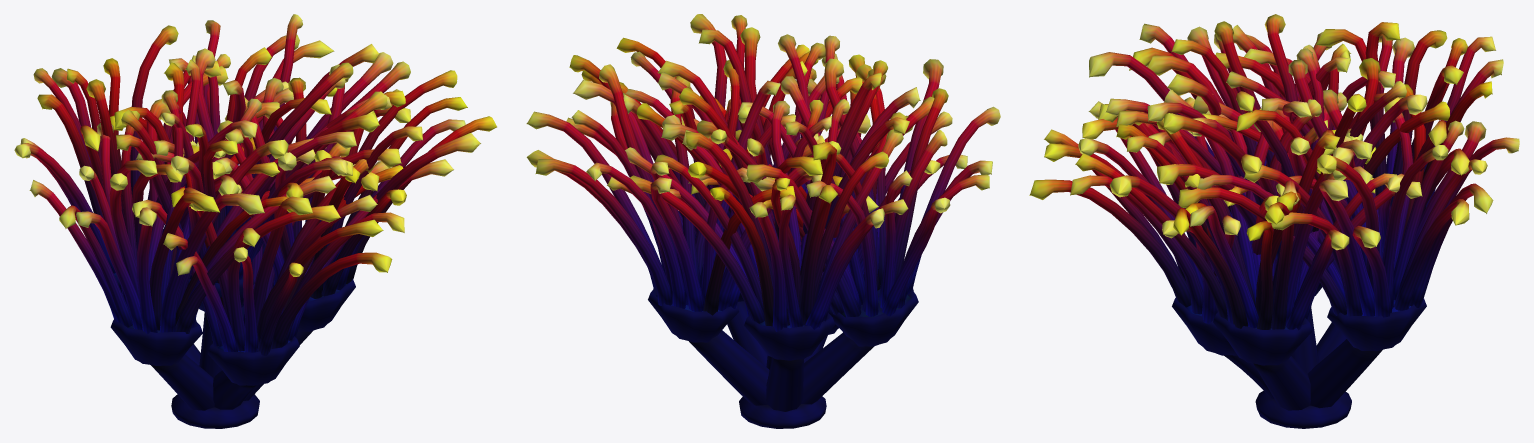
Rendered from reef-euphyllia-gold-torch.glb.
The picture shows the model from 3 angles, left to right: view 1: azimuth 30°, elevation 25°; view 2: azimuth 150°, elevation 25°; view 3: azimuth 270°, elevation 25°; orthographic projection. The views are drawn at different scales.
Parts seen in each view (by area): view 1: Reef_Euphyllia_Gold_Torch; view 2: Reef_Euphyllia_Gold_Torch; view 3: Reef_Euphyllia_Gold_Torch.
Boxes of the visible parts, x1,y1,x2,y2 form: Reef_Euphyllia_Gold_Torch: [14, 14, 496, 428]; Reef_Euphyllia_Gold_Torch: [526, 14, 1000, 428]; Reef_Euphyllia_Gold_Torch: [1029, 14, 1519, 428].
Size of the model in its own units: 0.1751 by 0.1422 by 0.1674.
Materials: 2 (2 with a texture image).
